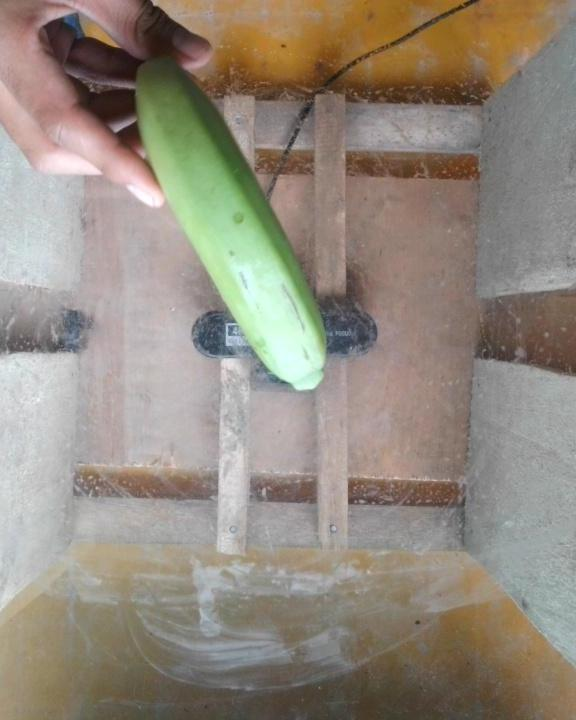CLASS B: (128, 51, 331, 394)
Class A: (280, 281, 304, 333), (235, 267, 257, 302), (298, 343, 317, 369)
